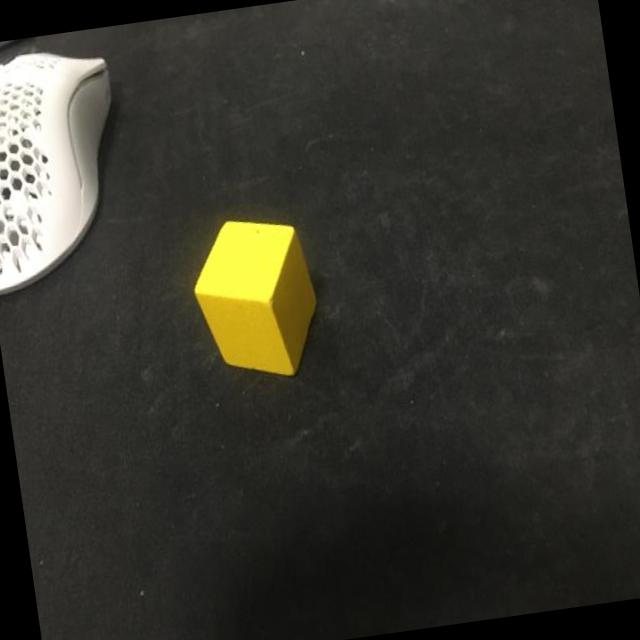yellow: (184, 210, 328, 389)
